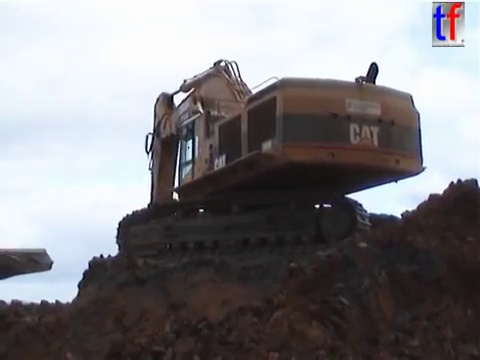excavator: (113, 55, 430, 265)
truck: (1, 245, 57, 284)
